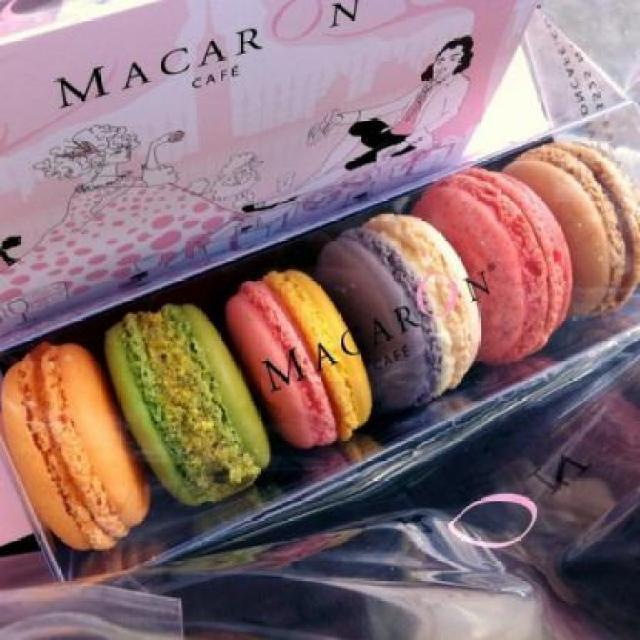Macaron: (7, 144, 639, 562)
